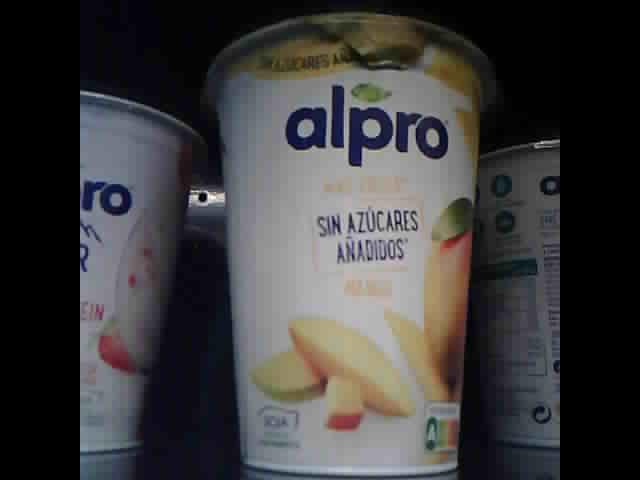alpro: (202, 11, 494, 476), (79, 88, 200, 456), (472, 139, 559, 450)
